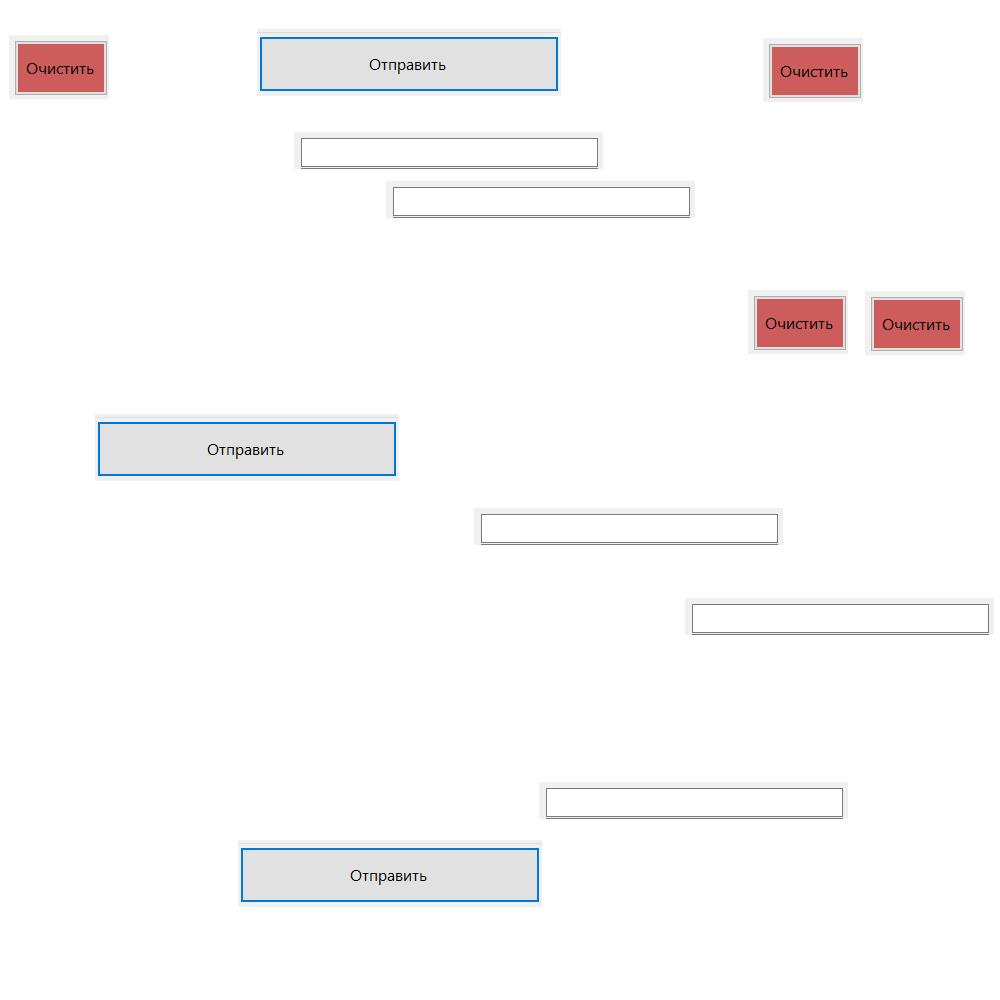Button: (95, 414, 399, 481), (257, 29, 561, 96), (238, 840, 542, 907), (748, 290, 848, 354), (9, 35, 109, 99), (763, 38, 863, 102), (865, 291, 965, 355)
EditText-: (474, 508, 783, 545), (386, 181, 695, 218), (294, 132, 603, 169), (539, 782, 848, 819), (685, 598, 994, 635)
